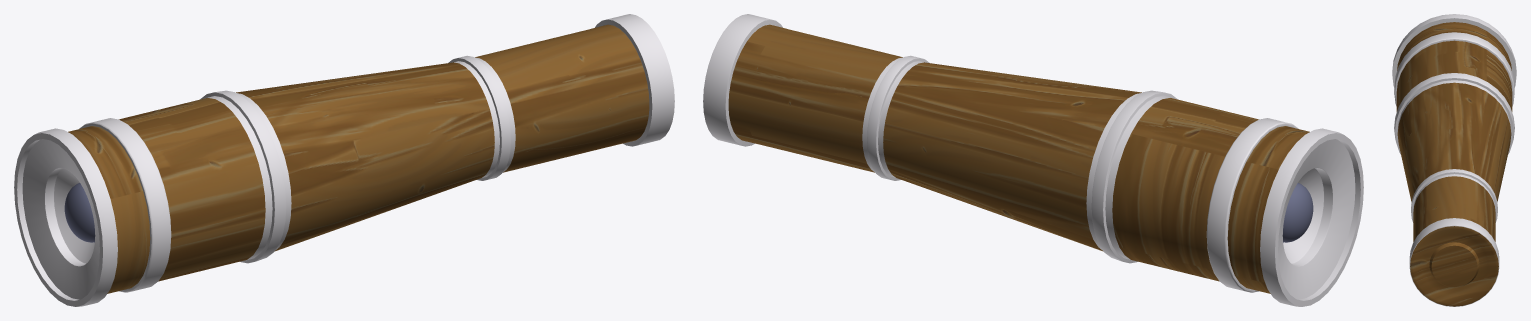
Rendered from FinalTelescope.fbx.
3 views of the same model, side by side, from view 1: azimuth 30°, elevation 25°; view 2: azimuth 150°, elevation 25°; view 3: azimuth 270°, elevation 25° (orthographic). The views are drawn at different scales.
Visible parts, largest first — view 1: Circle.005; view 2: Circle.005; view 3: Circle.005.
Boxes of the visible parts, left/top/right/bottom form: Circle.005: left=14, top=14, right=674, bottom=306; Circle.005: left=703, top=14, right=1363, bottom=306; Circle.005: left=1392, top=14, right=1516, bottom=306.
Bounding box in the file's own units: 941 × 251 × 251.
